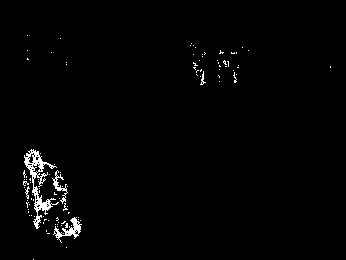person: (23, 149, 84, 235)
